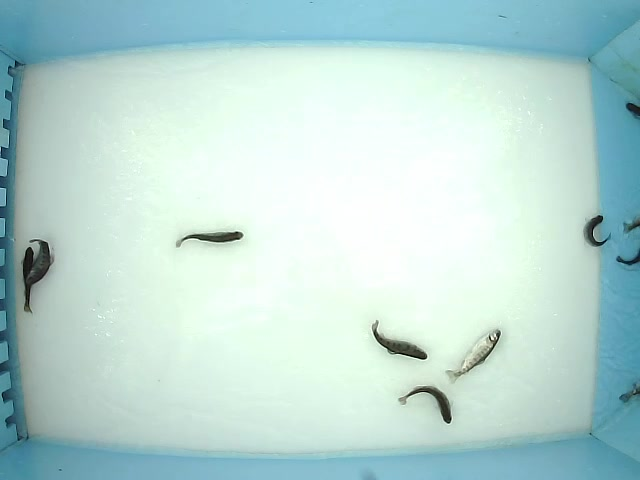fish: (444, 328, 502, 386), (371, 319, 428, 361), (397, 384, 455, 424), (174, 230, 245, 250), (25, 237, 52, 287), (20, 246, 35, 317), (583, 214, 613, 248)
